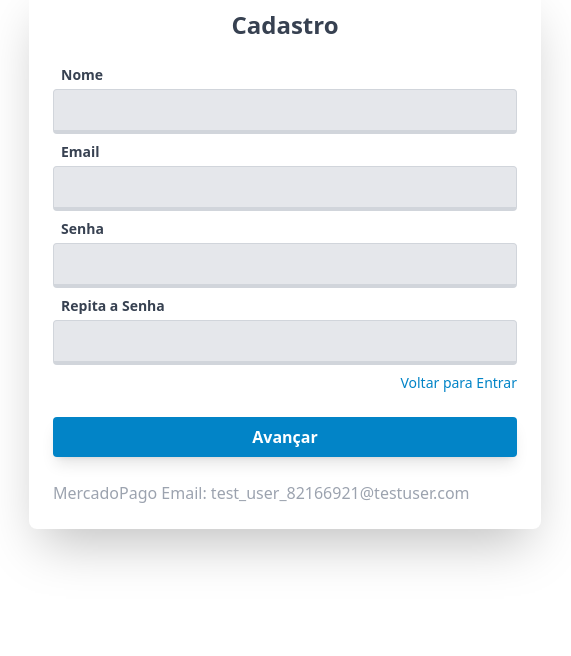
Test case: SignUp › should not submit when email are invalid
This screenshot has width=571, height=656.
Type "Test" into the field with id "username". click: (285, 112)
box: [53, 89, 517, 134]
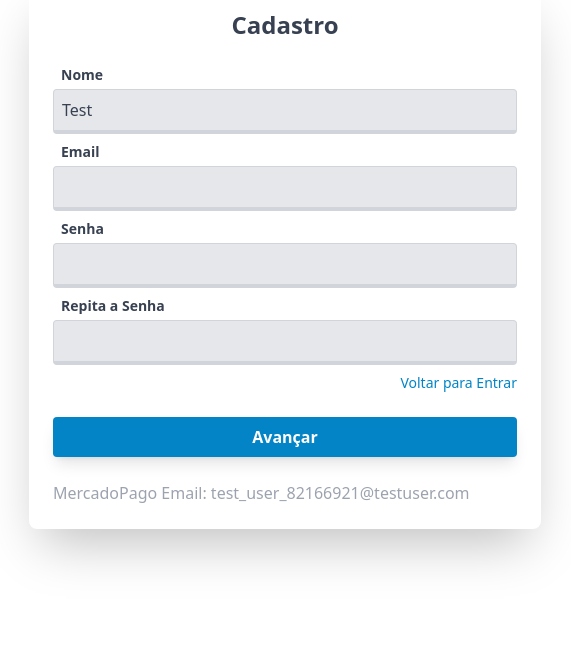
Type "teste" into the field with id "email". click: (285, 188)
box: [53, 166, 517, 211]
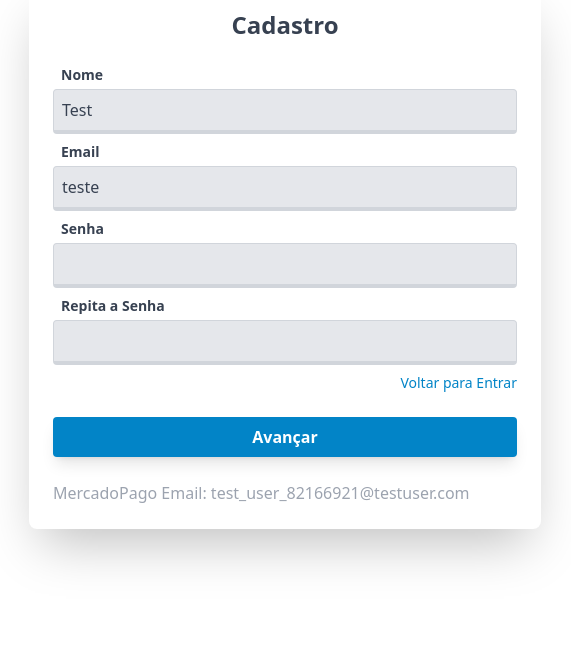
Type "123" into the password field labelled "Senha". click: (285, 266)
box: [53, 243, 517, 288]
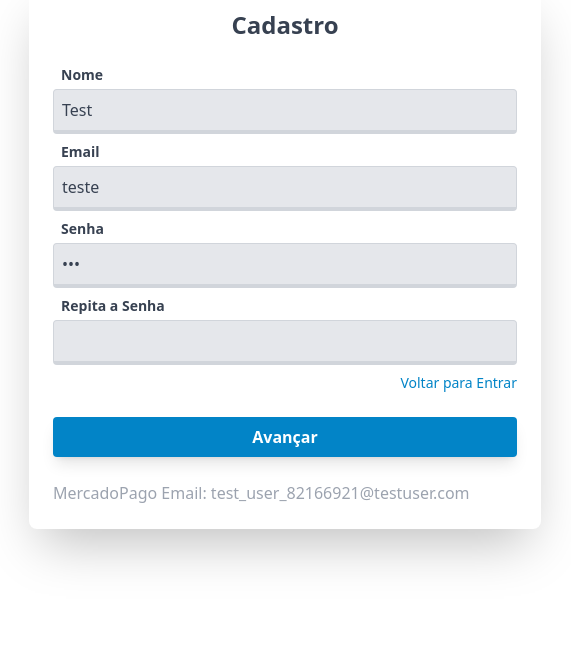
Type "123" into the password field with id "repeatPassword". click: (285, 342)
box: [53, 320, 517, 365]
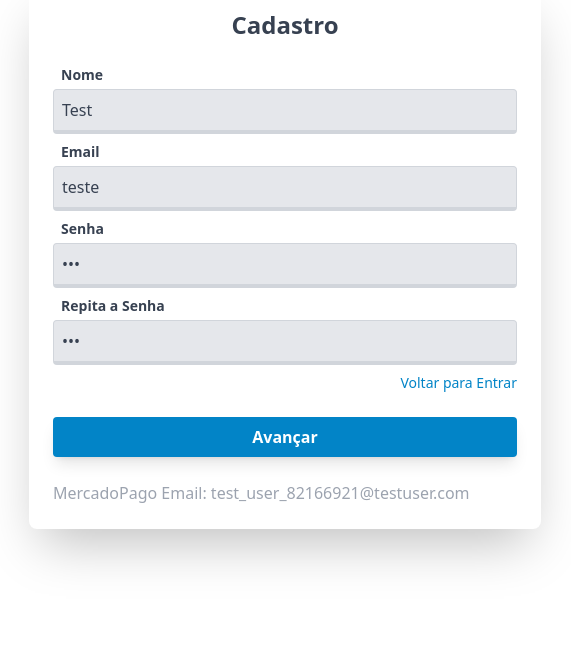
Click the button "Avançar". click: (285, 437)
box: [53, 417, 517, 457]
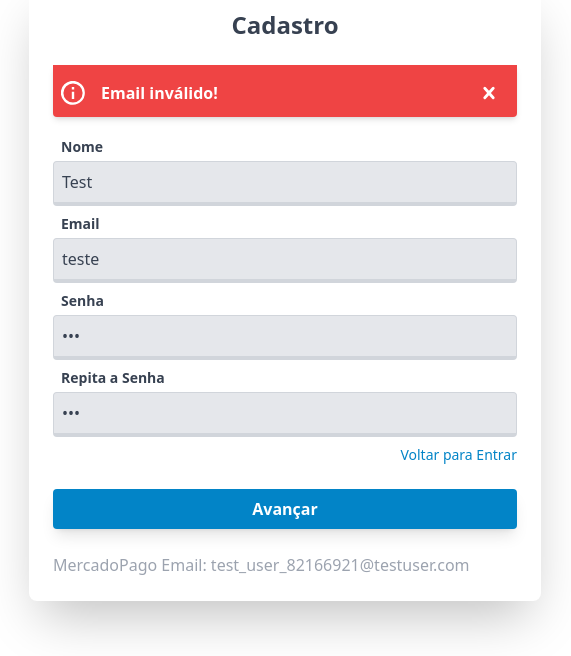
Expected: the text "Email inválido!" is shown, [101, 77, 218, 109]
